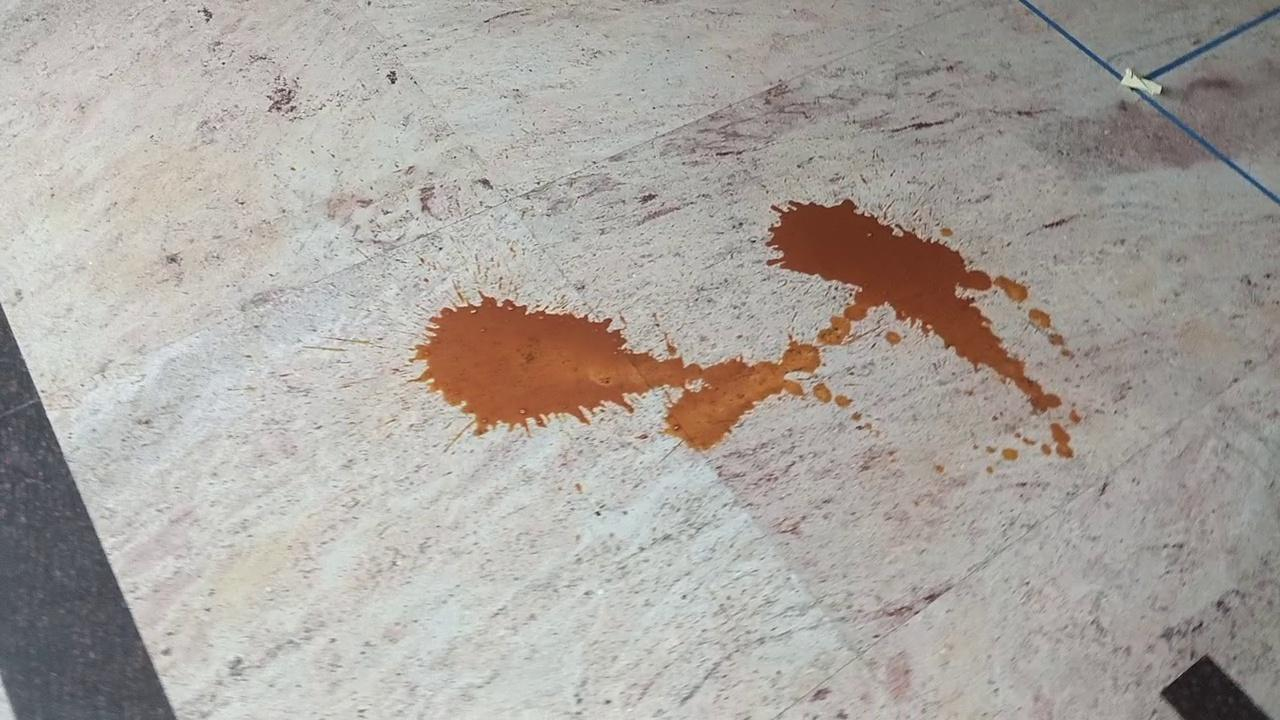dirty_floor: (416, 197, 1082, 463)
